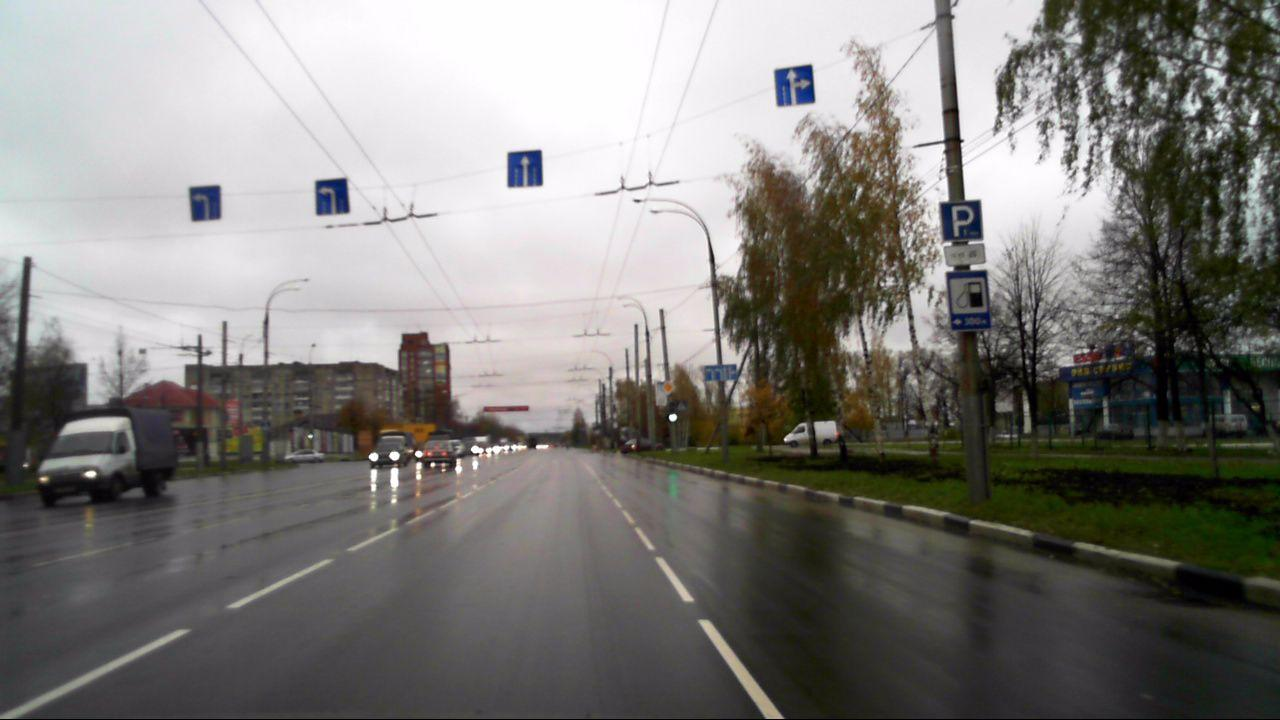5_15_2: (770, 63, 818, 106), (312, 178, 352, 217), (504, 149, 545, 187), (188, 184, 225, 221)
6_4: (937, 200, 985, 240)
7_3: (946, 272, 992, 328)
8_8: (945, 244, 986, 266)
